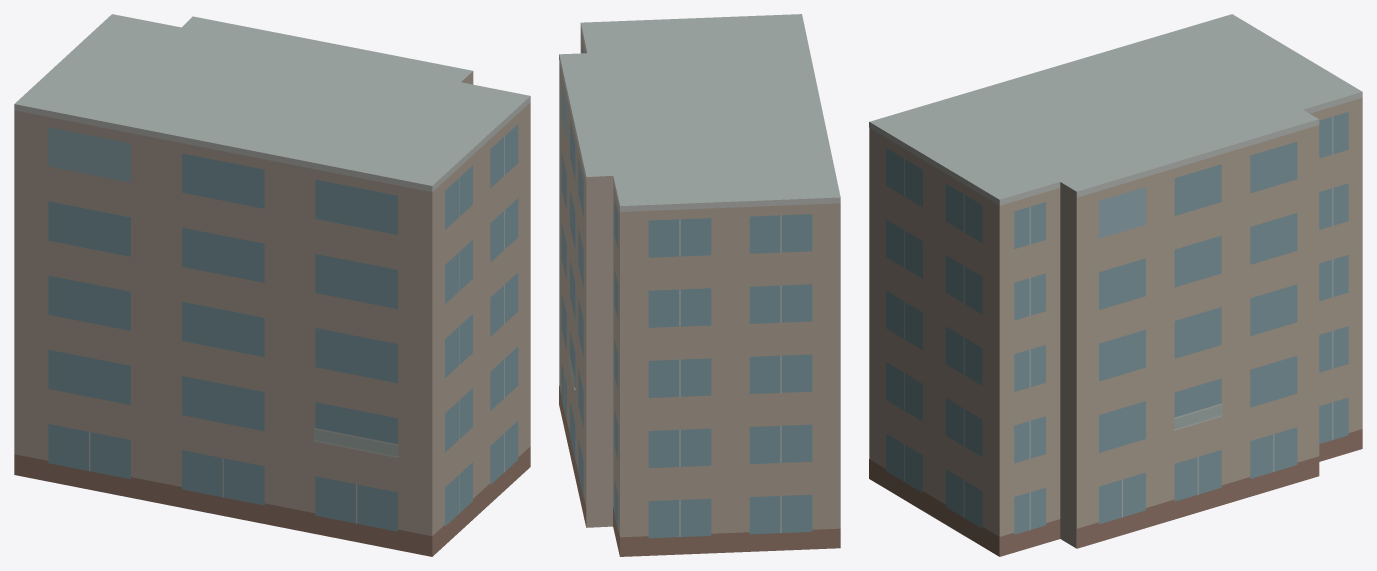
The model's file is survey-upis-32939001.glb.
3 views of the same model, side by side, from view 1: azimuth 30°, elevation 25°; view 2: azimuth 150°, elevation 25°; view 3: azimuth 270°, elevation 25° (orthographic). The views are drawn at different scales.
Parts seen in each view (by area): view 1: survey-upis-32939001.tmp; view 2: survey-upis-32939001.tmp; view 3: survey-upis-32939001.tmp.
Boxes of the visible parts, x1=… form: survey-upis-32939001.tmp: x1=14, y1=14, x2=530, y2=556; survey-upis-32939001.tmp: x1=559, y1=14, x2=840, y2=556; survey-upis-32939001.tmp: x1=869, y1=14, x2=1362, y2=556.
Size of the model in its own units: 16.31 by 14.6 by 18.3.
